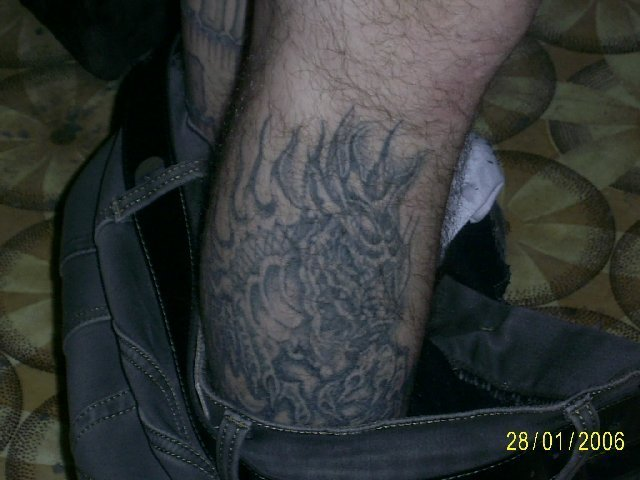tatu6_drakon: (205, 112, 459, 434)
